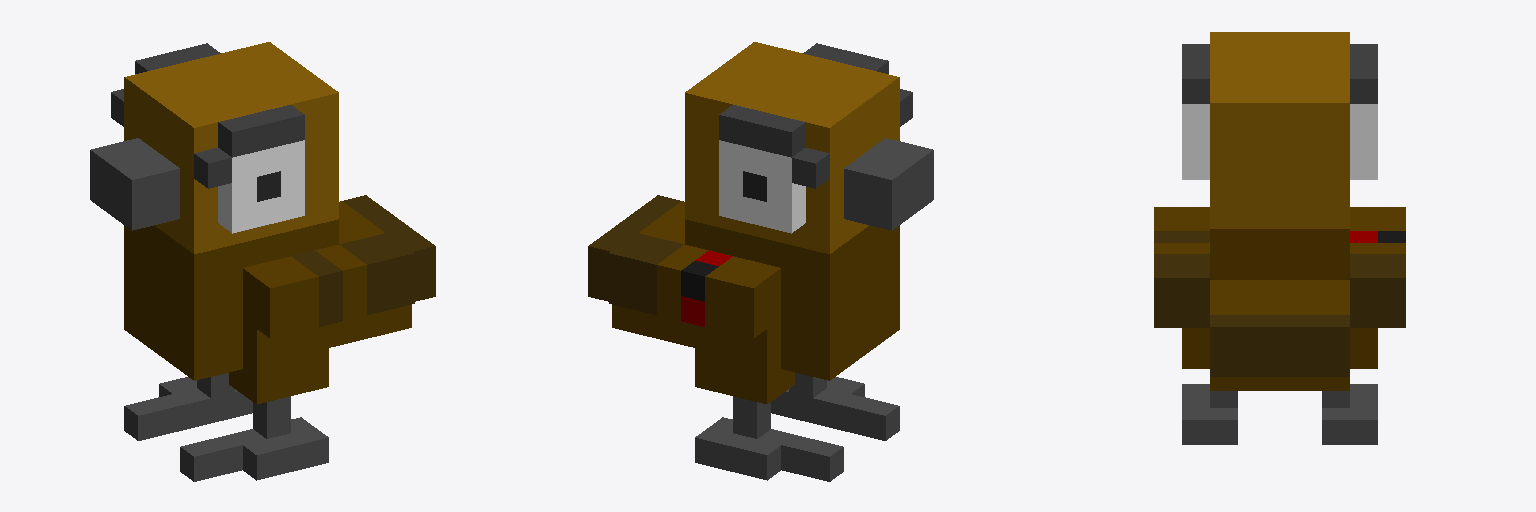
The picture shows the model from 3 angles: view 1: azimuth 30°, elevation 25°; view 2: azimuth 150°, elevation 25°; view 3: azimuth 270°, elevation 25°; orthographic projection.
Visible parts, largest first — view 1: Matrix_13; view 2: Matrix_13; view 3: Matrix_13.
Boxes of the visible parts, box(x1,y1,x2,y2) form: Matrix_13: box(90, 42, 435, 481); Matrix_13: box(588, 42, 933, 481); Matrix_13: box(1154, 32, 1405, 444).
Bounding box in the file's own units: 12 × 14 × 9.
Materials: 1 (1 with a texture image).